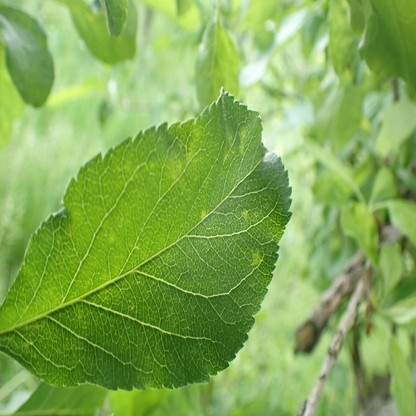scab: (252, 248, 261, 265), (239, 131, 245, 155), (226, 133, 230, 155), (201, 207, 207, 219), (241, 212, 250, 220)
